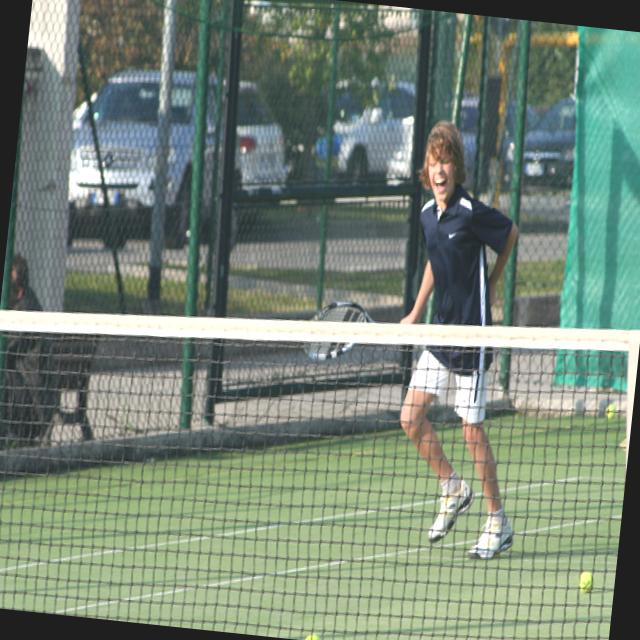Vehicle: (57, 59, 205, 262), (312, 74, 421, 192), (228, 79, 302, 215), (520, 92, 580, 184), (453, 94, 482, 183)
